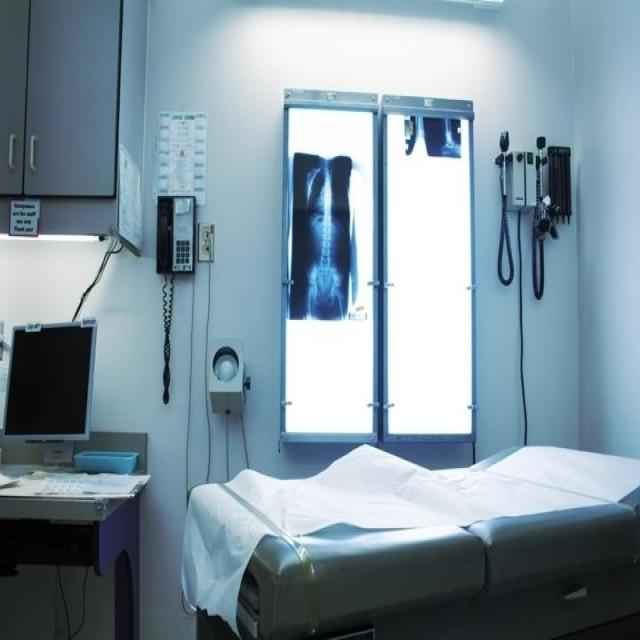E-waste: (0, 181, 254, 472), (486, 119, 580, 420)
